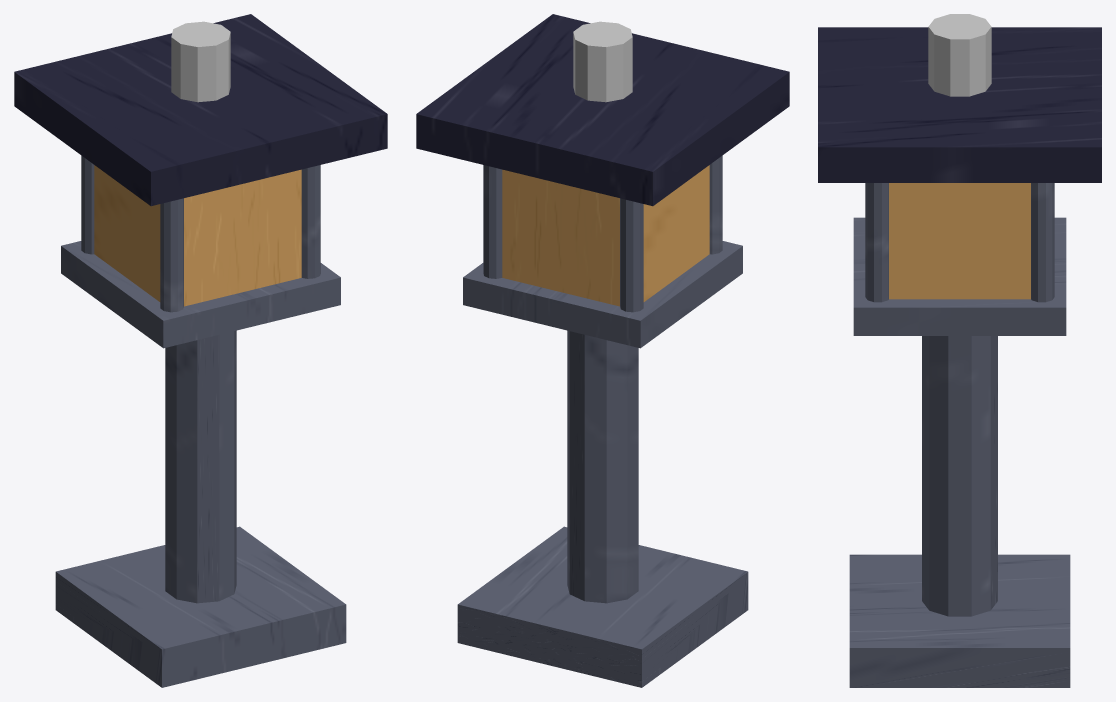
The model's file is dojo_stone_lantern.obj.
3 renders of one model, left to right at view 1: azimuth 30°, elevation 25°; view 2: azimuth 150°, elevation 25°; view 3: azimuth 270°, elevation 25°, orthographic. The views are drawn at different scales.
Parts seen in each view (by area): view 1: geometry_4, geometry_0, geometry_3, geometry_1, geometry_2, geometry_9, geometry_6, geometry_8, geometry_5; view 2: geometry_4, geometry_0, geometry_3, geometry_1, geometry_2, geometry_9, geometry_5, geometry_7, geometry_6; view 3: geometry_4, geometry_0, geometry_1, geometry_3, geometry_2, geometry_9, geometry_7, geometry_8.
Boxes of the visible parts, bbox=[...] form: geometry_4: bbox=[14, 14, 387, 206]; geometry_0: bbox=[55, 526, 346, 687]; geometry_3: bbox=[94, 165, 301, 306]; geometry_1: bbox=[165, 330, 236, 603]; geometry_2: bbox=[61, 241, 340, 348]; geometry_9: bbox=[171, 21, 230, 102]; geometry_6: bbox=[160, 198, 183, 312]; geometry_8: bbox=[301, 165, 320, 278]; geometry_5: bbox=[81, 155, 94, 254]; geometry_4: bbox=[416, 14, 789, 206]; geometry_0: bbox=[457, 526, 748, 687]; geometry_3: bbox=[502, 165, 709, 306]; geometry_1: bbox=[567, 330, 638, 603]; geometry_2: bbox=[463, 241, 742, 348]; geometry_9: bbox=[573, 21, 632, 102]; geometry_5: bbox=[620, 198, 643, 312]; geometry_7: bbox=[483, 165, 502, 278]; geometry_6: bbox=[709, 155, 722, 254]; geometry_4: bbox=[818, 27, 1101, 182]; geometry_0: bbox=[849, 554, 1070, 687]; geometry_1: bbox=[922, 336, 997, 616]; geometry_3: bbox=[889, 183, 1030, 299]; geometry_2: bbox=[853, 217, 1066, 335]; geometry_9: bbox=[928, 14, 991, 96]; geometry_7: bbox=[1031, 183, 1054, 302]; geometry_8: bbox=[865, 183, 888, 302].
Bounding box in the file's own units: 1.8 × 4.3 × 1.8.
